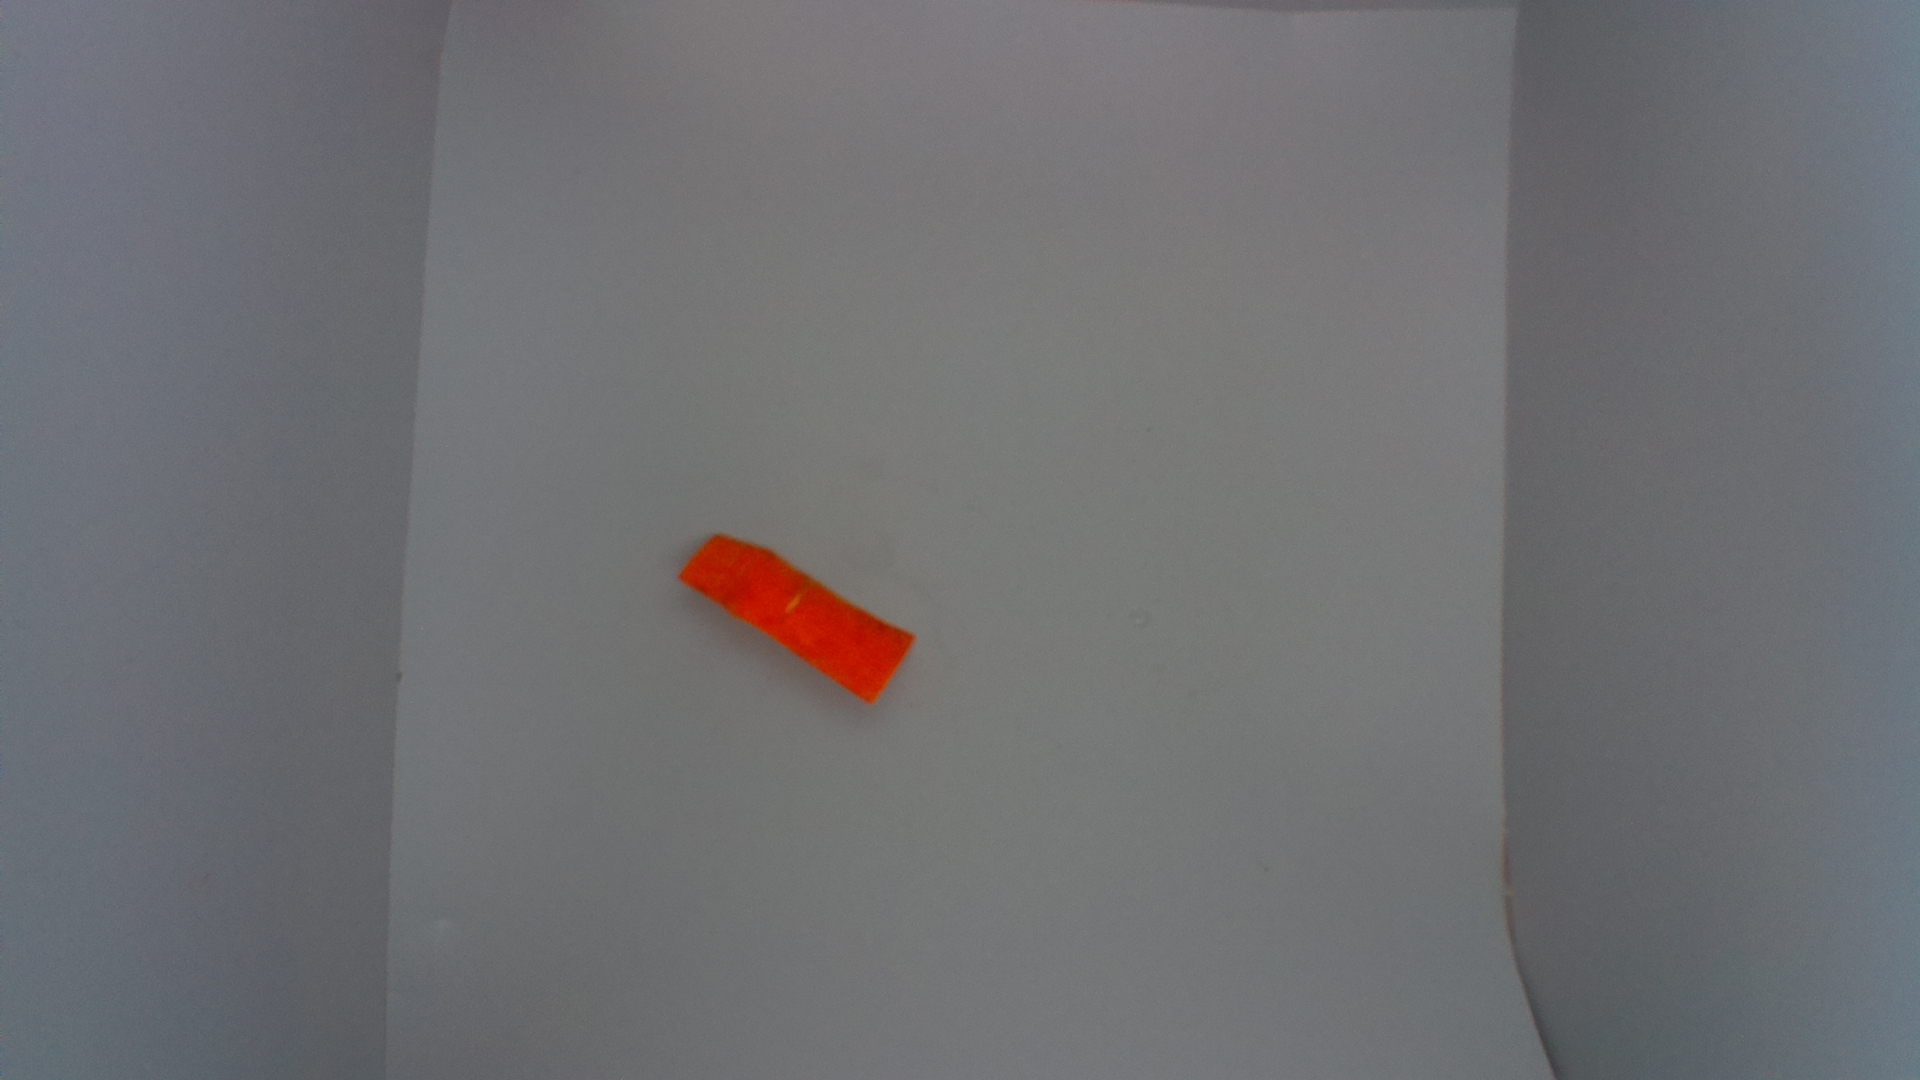carrot: (674, 530, 919, 704)
